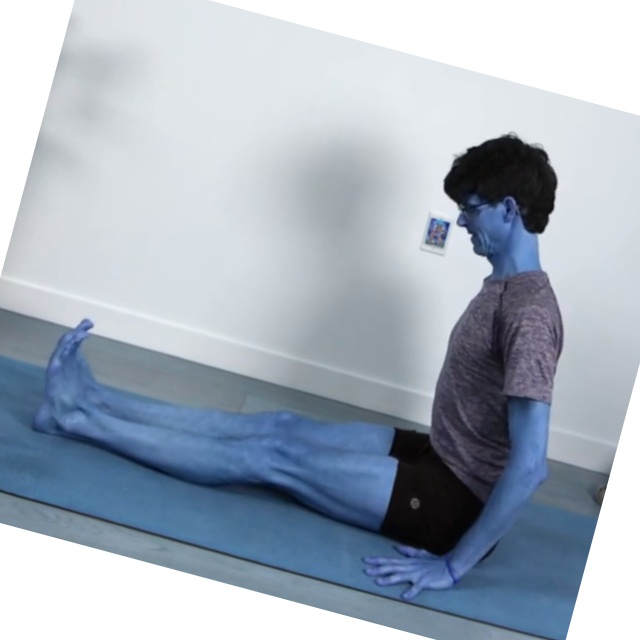Staff_Pose: (25, 133, 572, 599)
